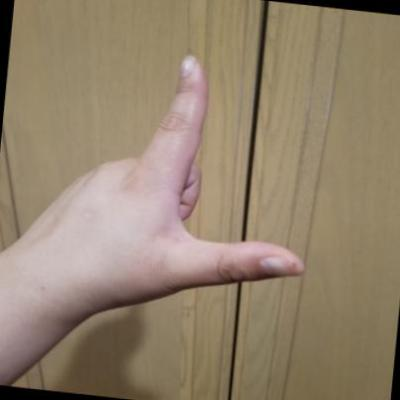hand: (0, 31, 332, 342)
